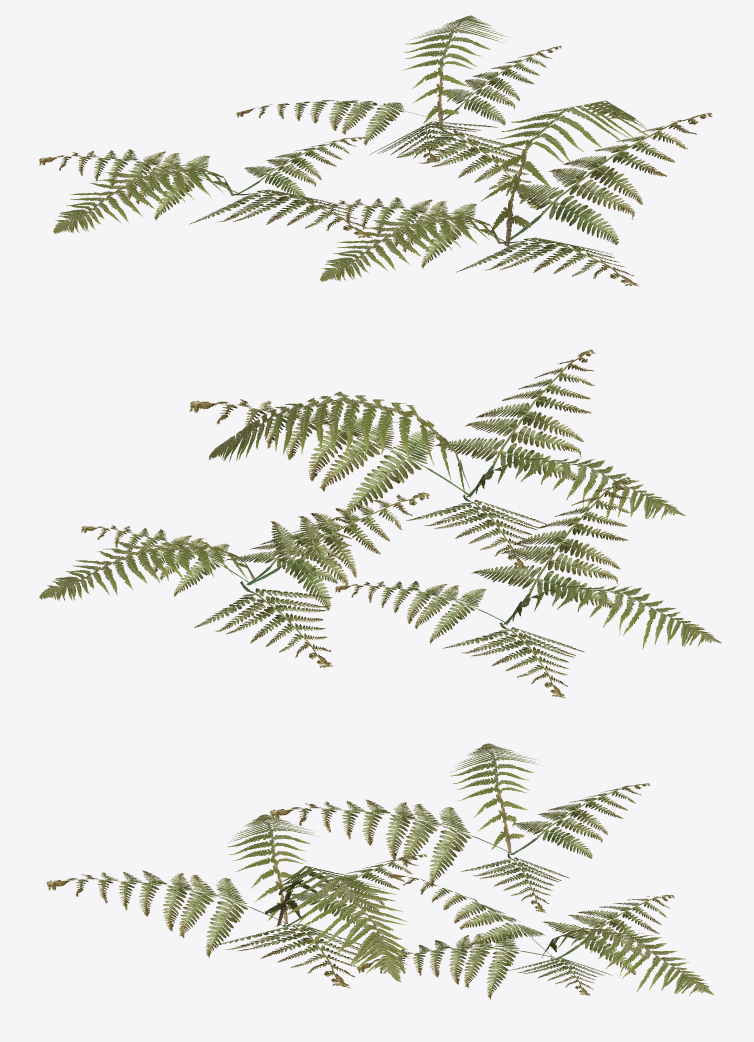
The model's file is SM_Plant_Forest_07.fbx.
3 renders of one model, top to bottom at view 1: azimuth 30°, elevation 25°; view 2: azimuth 150°, elevation 25°; view 3: azimuth 270°, elevation 25°, orthographic. The views are drawn at different scales.
Parts seen in each view (by area): view 1: SM_Plant_Forest_07; view 2: SM_Plant_Forest_07; view 3: SM_Plant_Forest_07.
Part boxes in pixels (left/top/right/bottom): SM_Plant_Forest_07: left=39, top=15, right=712, bottom=286; SM_Plant_Forest_07: left=39, top=349, right=721, bottom=698; SM_Plant_Forest_07: left=46, top=743, right=713, bottom=999.
Size of the model in its own units: 107 by 112 by 18.31.
1 material, 1 textured.
